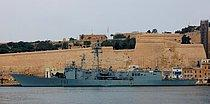MIL_Ship: (8, 51, 200, 86)
